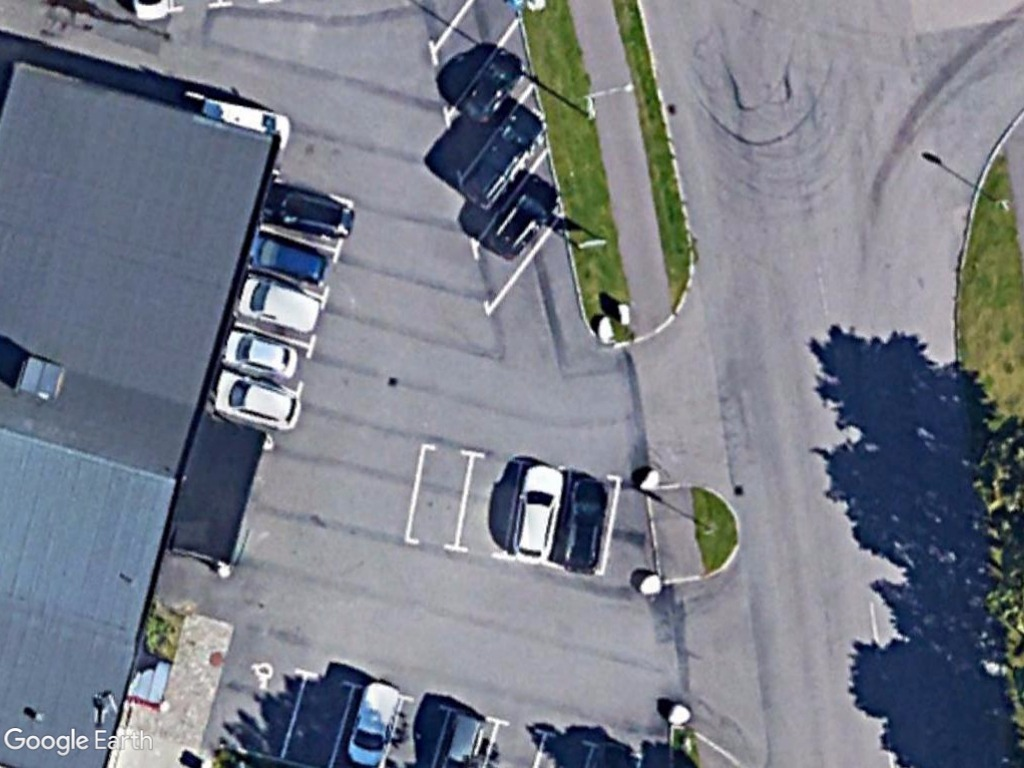car: (507, 460, 569, 570), (206, 370, 308, 433), (557, 476, 616, 578)
van: (345, 678, 405, 768)
